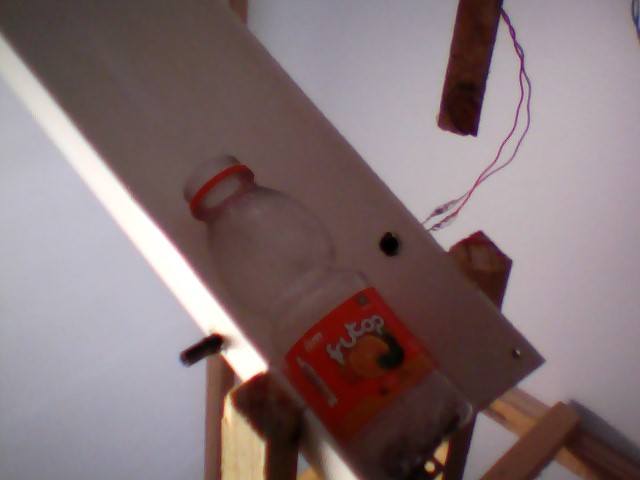plastico: (172, 150, 479, 480)
